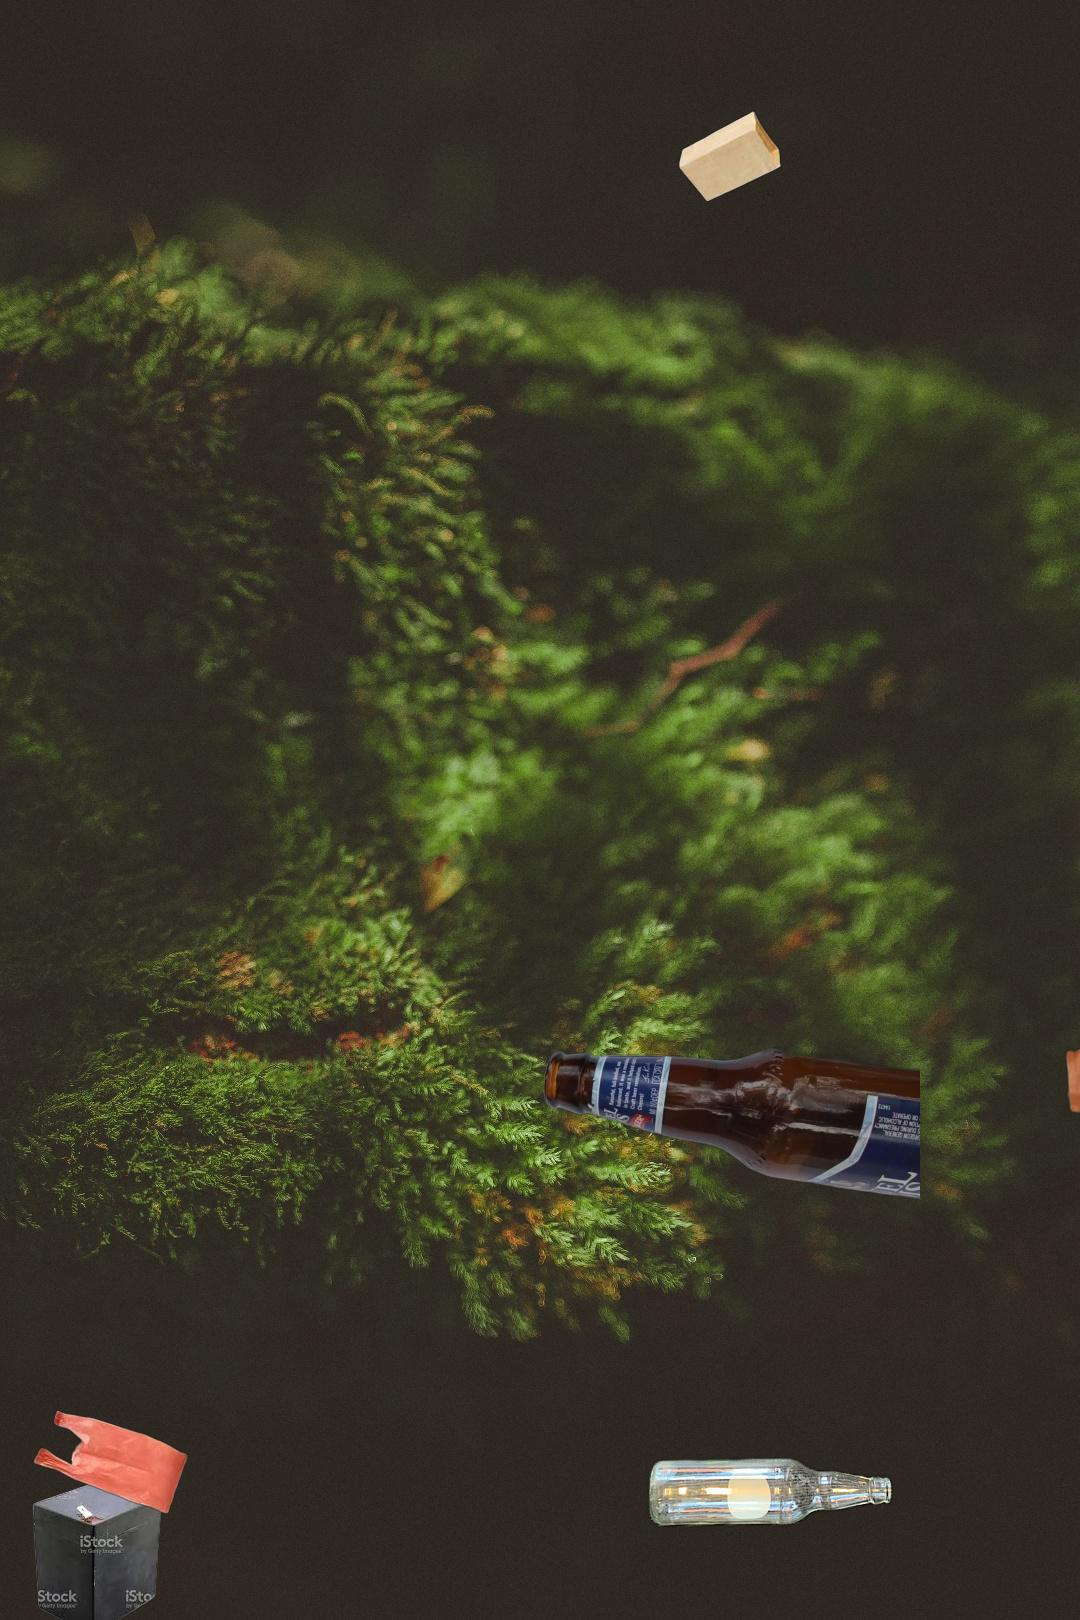battery: (30, 1477, 165, 1620)
clothes: (1062, 1022, 1080, 1364)
glass: (539, 1044, 920, 1203), (644, 1451, 896, 1533)
paper-bag: (600, 86, 900, 386)
plastic-bag: (30, 1342, 198, 1516)
